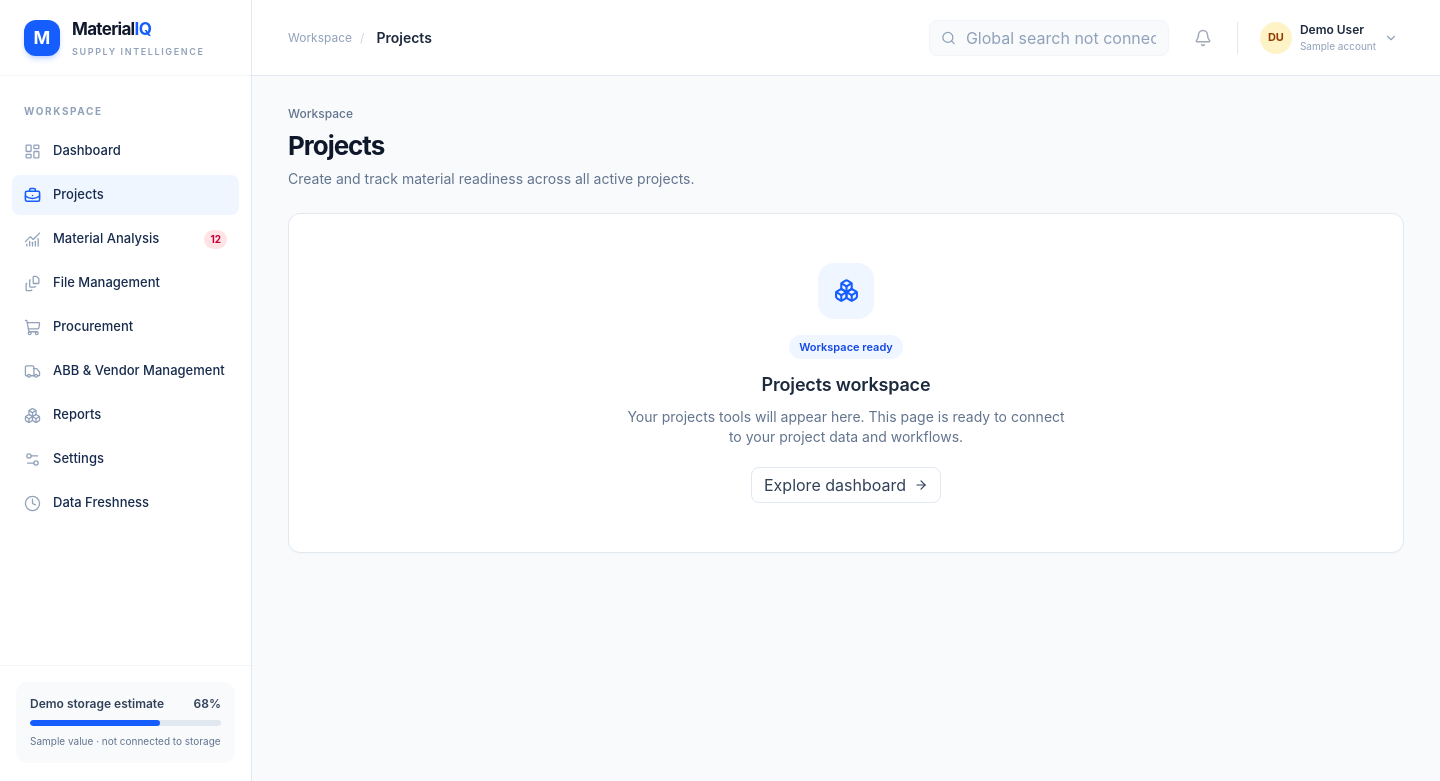
Test: MaterialIQ application › returns to the dashboard from a placeholder workspace
The width and height of the screenshot is (1440, 781).
Click the button "Explore dashboard" at (846, 485), box [751,467,941,503]
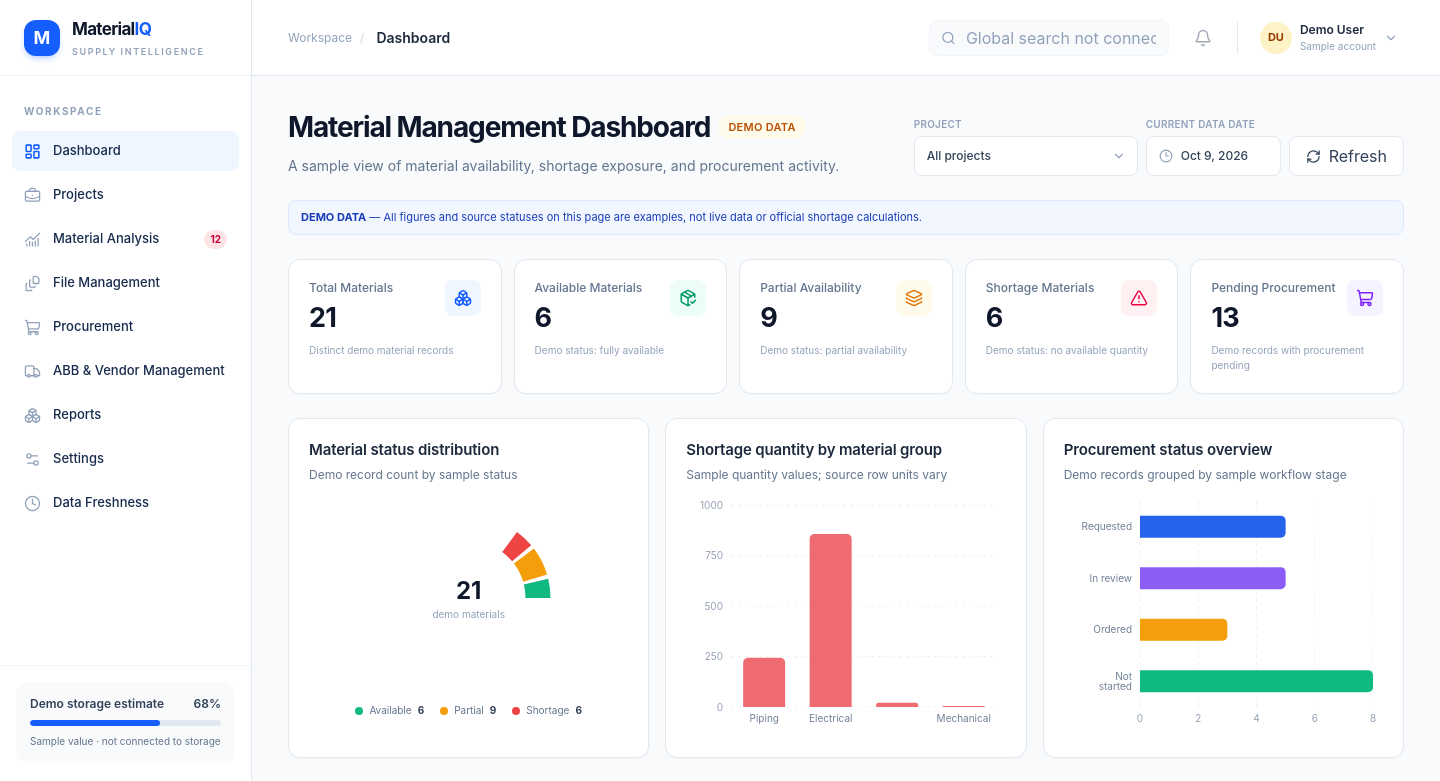
Check: the heading "Material Management Dashboard" is shown, box [288,106,710,148]
